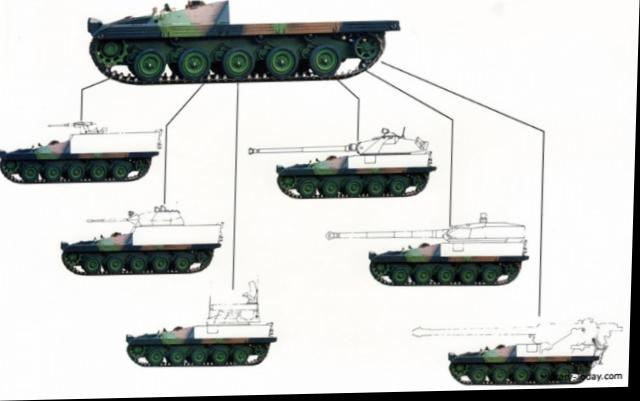tank: (76, 0, 423, 88), (255, 120, 447, 211), (360, 220, 540, 299), (0, 115, 181, 193)
